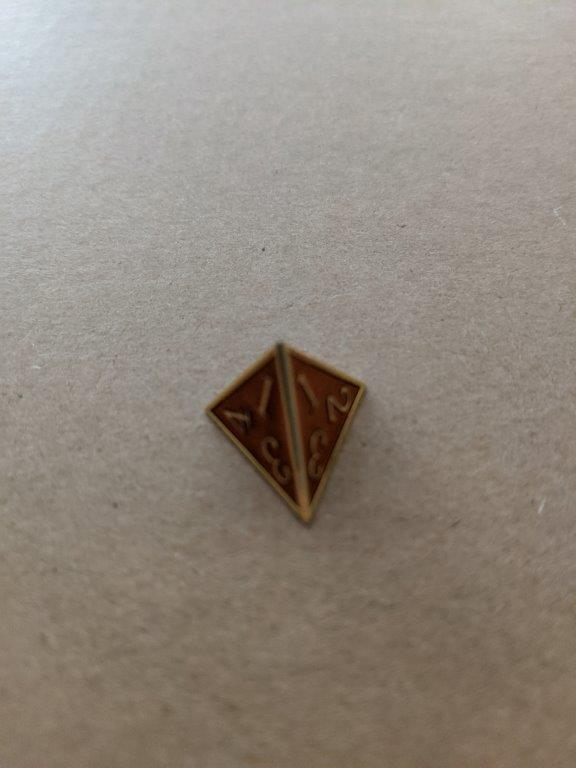d4-1: (198, 338, 367, 535)
